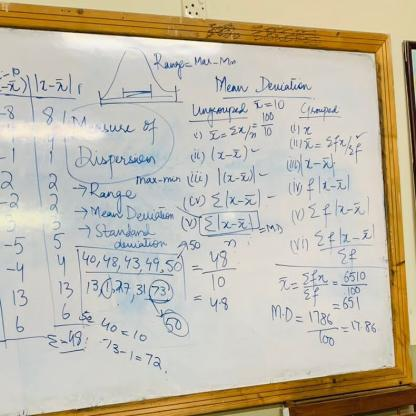Handwritten text: (69, 116, 162, 175), (210, 67, 325, 100), (91, 224, 181, 250), (88, 206, 177, 223), (190, 102, 252, 119), (88, 181, 139, 200), (298, 102, 341, 117), (267, 299, 284, 322), (284, 300, 297, 322), (301, 127, 316, 140), (38, 80, 50, 94), (55, 84, 67, 96)
Whiteboard: (0, 22, 399, 416)
